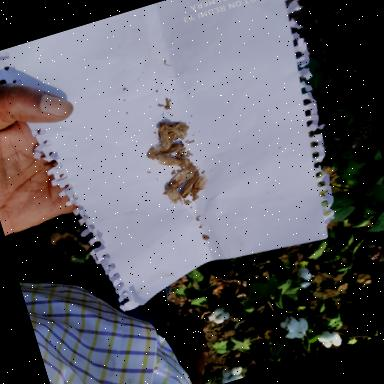abw: (165, 164, 200, 192), (176, 174, 205, 204), (156, 149, 184, 173), (187, 172, 213, 196), (162, 182, 184, 206), (179, 152, 199, 176)
